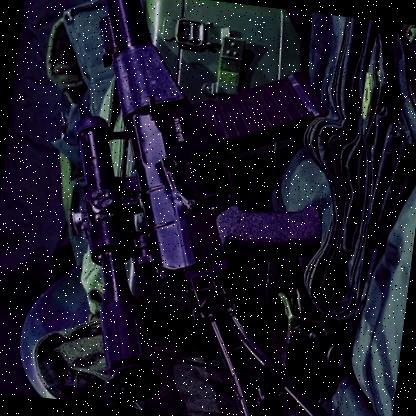rifle: (30, 0, 328, 415)
